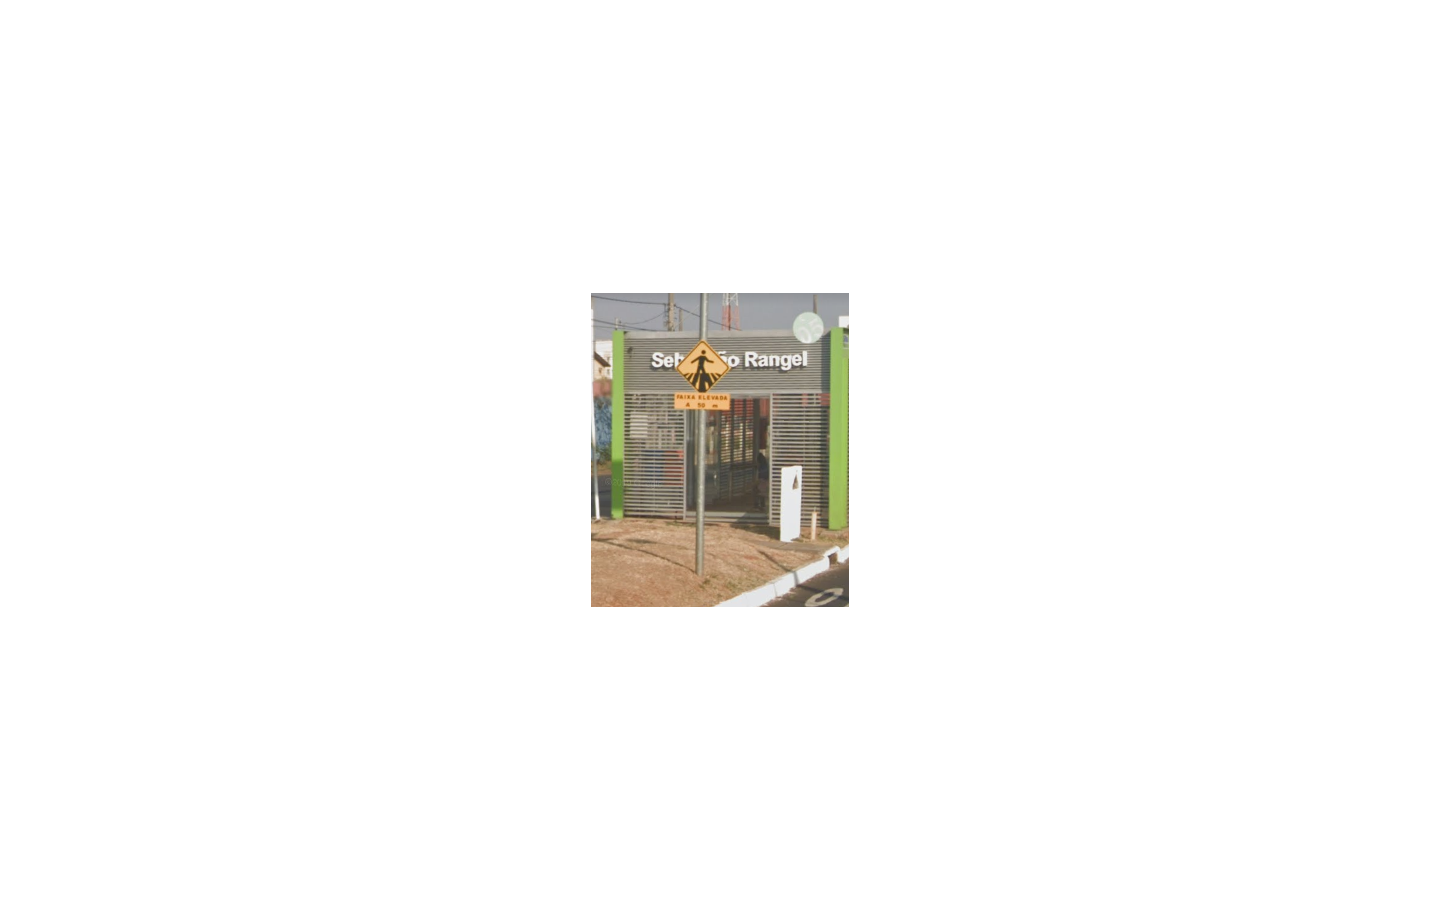t50m: (674, 340, 731, 411)
